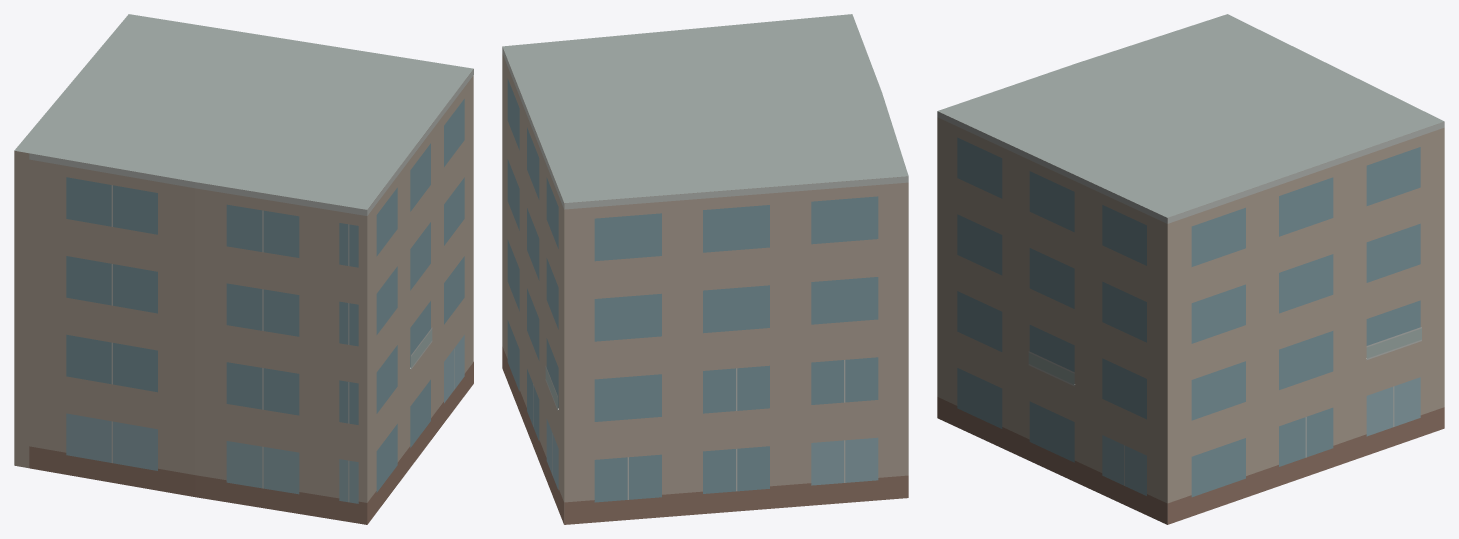
File: survey-upis-32642230.glb
The picture shows the model from 3 angles, left to right: view 1: azimuth 30°, elevation 25°; view 2: azimuth 150°, elevation 25°; view 3: azimuth 270°, elevation 25°; orthographic projection. The views are drawn at different scales.
Parts seen in each view (by area): view 1: survey-upis-32642230.tmp; view 2: survey-upis-32642230.tmp; view 3: survey-upis-32642230.tmp.
Part boxes in pixels (<box>): survey-upis-32642230.tmp: <box>14,14,473,524</box>; survey-upis-32642230.tmp: <box>502,14,908,524</box>; survey-upis-32642230.tmp: <box>937,14,1444,524</box>.
Size of the model in its own units: 17.57 by 12.33 by 18.48.
